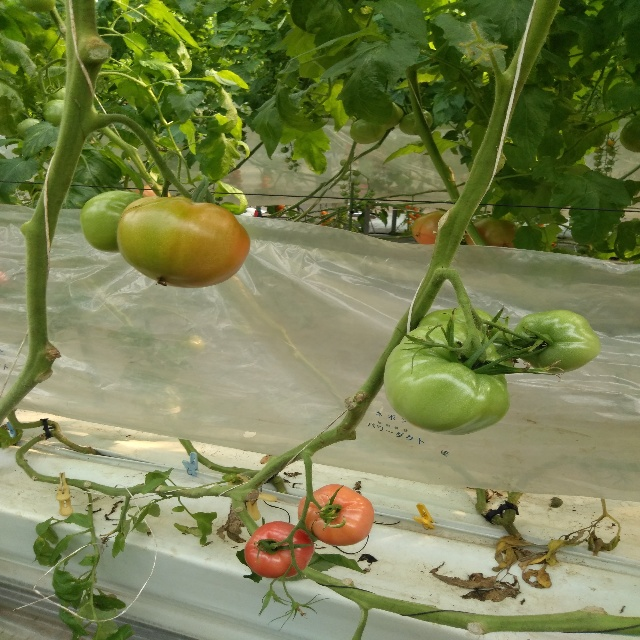b_fully_ripened: (243, 521, 315, 580)
b_green: (383, 321, 509, 435), (417, 308, 517, 376), (512, 309, 601, 374), (80, 191, 146, 254)
b_half_ripened: (117, 196, 251, 289), (297, 484, 376, 547), (466, 216, 522, 248), (412, 210, 447, 244)
